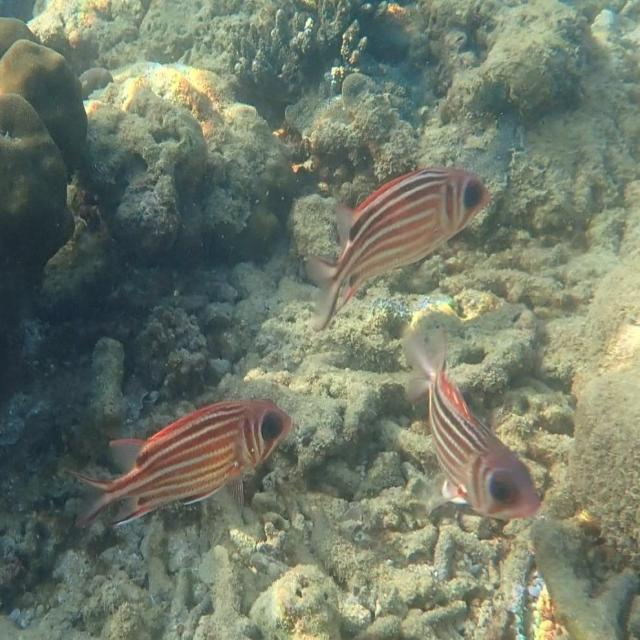Asker Baligi: (59, 390, 302, 558), (306, 154, 509, 340), (395, 335, 555, 535)
